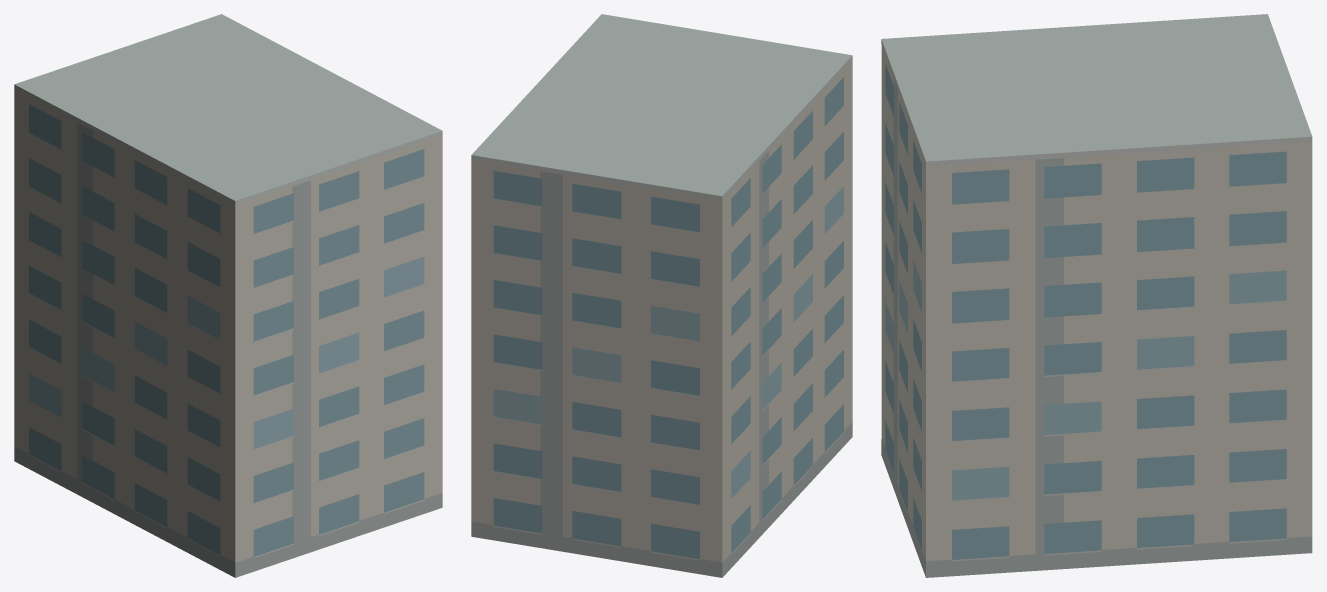
The model's file is survey-upis-33041755.glb.
The picture shows the model from 3 angles, left to right: view 1: azimuth 30°, elevation 25°; view 2: azimuth 150°, elevation 25°; view 3: azimuth 270°, elevation 25°; orthographic projection. The views are drawn at different scales.
Visible parts, largest first — view 1: survey-upis-33041755.tmp; view 2: survey-upis-33041755.tmp; view 3: survey-upis-33041755.tmp.
Boxes of the visible parts, x1,y1,x2,y2 form: survey-upis-33041755.tmp: (14, 14, 442, 577); survey-upis-33041755.tmp: (471, 14, 852, 577); survey-upis-33041755.tmp: (881, 14, 1312, 577).
Size of the model in its own units: 14.49 by 19.05 by 17.88.
